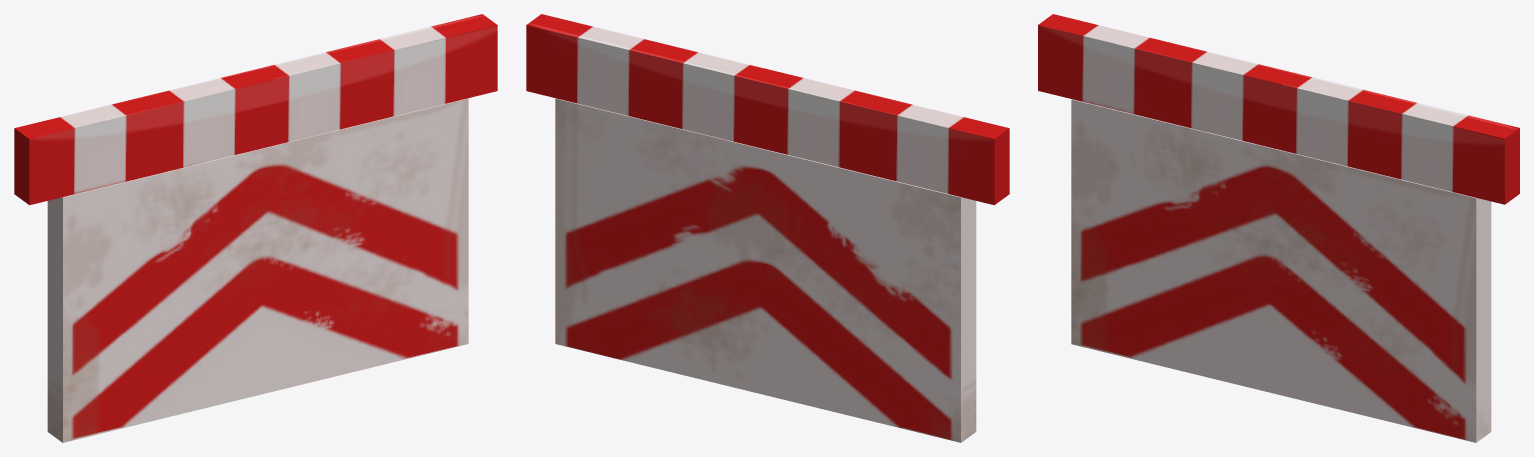
File: jump_02.FBX
3 renders of one model, left to right at view 1: azimuth 30°, elevation 25°; view 2: azimuth 150°, elevation 25°; view 3: azimuth 330°, elevation 25°, orthographic.
Visible parts, largest first — view 1: JUMP_002; view 2: JUMP_002; view 3: JUMP_002.
Boxes of the visible parts, x1=… form: JUMP_002: x1=14, y1=14, x2=497, y2=442; JUMP_002: x1=526, y1=14, x2=1009, y2=442; JUMP_002: x1=1038, y1=14, x2=1519, y2=442.
Bounding box in the file's own units: 153 × 97.11 × 8.49.
